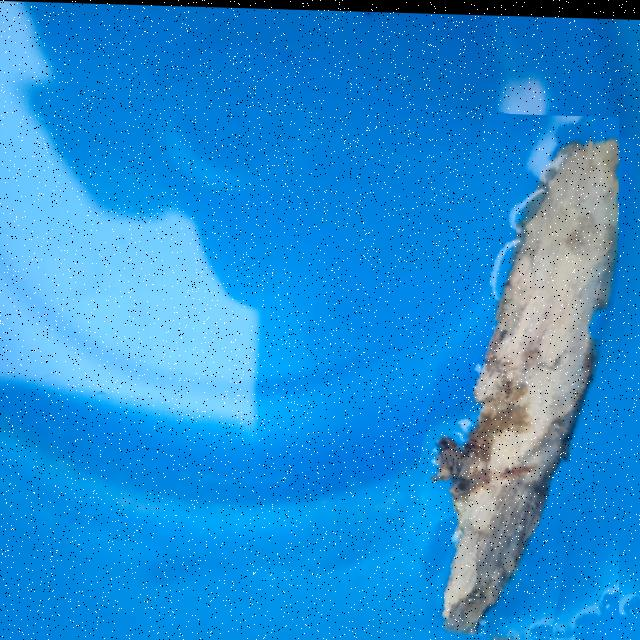litter: (410, 108, 619, 640)
